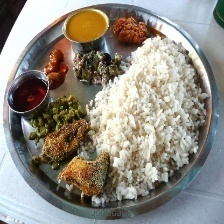dal: (65, 8, 108, 41)
